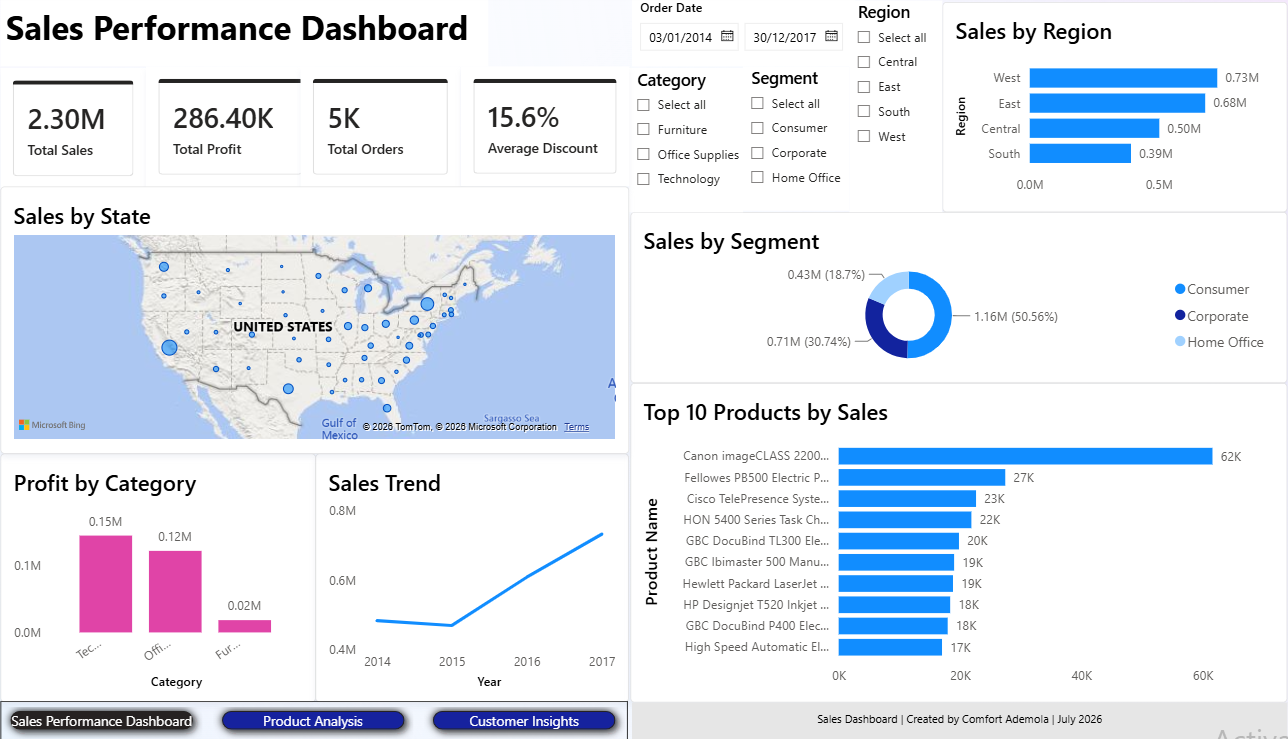

Layout of this report page (visuals, bound fields, positions):
{"tool":"powerbi","page":{"name":"Sales Performance Dashboard","canvas":[1280,720],"ordinal":0},"visuals":[{"type":"clusteredBarChart","title":"Sales by Region","fields":{"Y":["Sum(Sample - Superstore.Sales)"],"Category":["Sample - Superstore.Region"]},"box":[944.7,2.9,334.8,203.8],"z":0},{"type":"clusteredColumnChart","title":"Profit by Category","fields":{"Category":["Sample - Superstore.Category"],"Y":["Sum(Sample - Superstore.Profit)"]},"box":[30.6,441,305.7,241.6],"z":1000},{"type":"donutChart","title":"Sales by Segment","fields":{"Category":["Sample - Superstore.Segment"],"Y":["Sum(Sample - Superstore.Sales)"]},"box":[641.2,207.3,638,233.2],"z":2000},{"type":"lineChart","title":"Sales Trend","fields":{"Category":["Sample - Superstore.Order Date.Variation.Date Hierarchy.Year","Sample - Superstore.Order Date.Variation.Date Hierarchy.Quarter","Sample - Superstore.Order Date.Variation.Date Hierarchy.Month","Sample - Superstore.Order Date.Variation.Date Hierarchy.Day"],"Y":["Sum(Sample - Superstore.Sales)"]},"box":[336.2,441,304.2,241.6],"z":3000},{"type":"slicer","fields":{"Values":["Sample - Superstore.Region"]},"box":[854.4,1.5,90.2,205.2],"z":4000},{"type":"slicer","fields":{"Values":["Sample - Superstore.Category"]},"box":[640.4,67,110.6,139.7],"z":5000},{"type":"slicer","fields":{"Values":["Sample - Superstore.Segment"]},"box":[751.1,65.5,103.3,139.7],"z":6000},{"type":"slicer","fields":{"Values":["Sample - Superstore.Order Date"]},"box":[643.4,0,216.9,65.5],"z":7000},{"type":"cardVisual","title":"Total Sales","fields":{"Data":["Sample - Superstore.Total Sales"]},"box":[30.6,67,141.2,117.9],"z":8000},{"type":"cardVisual","fields":{"Data":["Sample - Superstore.Total Profit"]},"box":[171.8,65.5,164.5,117.9],"z":9000},{"type":"cardVisual","fields":{"Data":["Sample - Superstore.Total Orders"]},"box":[321.7,65.5,155.7,117.9],"z":10000},{"type":"cardVisual","fields":{"Data":["Sample - Superstore.Average Discount"]},"box":[477.4,65.5,163,116.4],"z":11000},{"type":"textbox","box":[30.6,0,473.1,65.5],"z":12000},{"type":"clusteredBarChart","title":"Top 10 Products by Sales","fields":{"Category":["Sample - Superstore.Product Name"],"Y":["Sum(Sample - Superstore.Sales)"]},"box":[641.2,440.4,638,241.3],"z":13000},{"type":"map","title":"Sales by State","fields":{"Category":["Sample - Superstore.State"],"Size":["Sum(Sample - Superstore.Sales)"]},"box":[30.6,181.9,609.9,259.1],"z":14000},{"type":"textbox","box":[642.8,681.7,636.4,38.9],"z":15000},{"type":"pageNavigator","box":[30.8,681.7,608.8,38.9],"z":16000}]}

Visuals, with their boxes on the page's 1280x720 design canvas (x1, y1, x2, y2). These are canvas units, not pixel positions in the 1288x739 screenshot, which may show the page scaled, cropped or inside an application window:
"Sales by Region" clusteredBarChart: BBox(945, 3, 1280, 207)
"Profit by Category" clusteredColumnChart: BBox(31, 441, 336, 683)
"Sales by Segment" donutChart: BBox(641, 207, 1279, 440)
"Sales Trend" lineChart: BBox(336, 441, 640, 683)
slicer - Sample - Superstore.Region: BBox(854, 2, 945, 207)
slicer - Sample - Superstore.Category: BBox(640, 67, 751, 207)
slicer - Sample - Superstore.Segment: BBox(751, 66, 854, 205)
slicer - Sample - Superstore.Order Date: BBox(643, 0, 860, 66)
"Total Sales" cardVisual: BBox(31, 67, 172, 185)
cardVisual - Sample - Superstore.Total Profit: BBox(172, 66, 336, 183)
cardVisual - Sample - Superstore.Total Orders: BBox(322, 66, 477, 183)
cardVisual - Sample - Superstore.Average Discount: BBox(477, 66, 640, 182)
textbox: BBox(31, 0, 504, 66)
"Top 10 Products by Sales" clusteredBarChart: BBox(641, 440, 1279, 682)
"Sales by State" map: BBox(31, 182, 640, 441)
textbox: BBox(643, 682, 1279, 721)
pageNavigator: BBox(31, 682, 640, 721)
